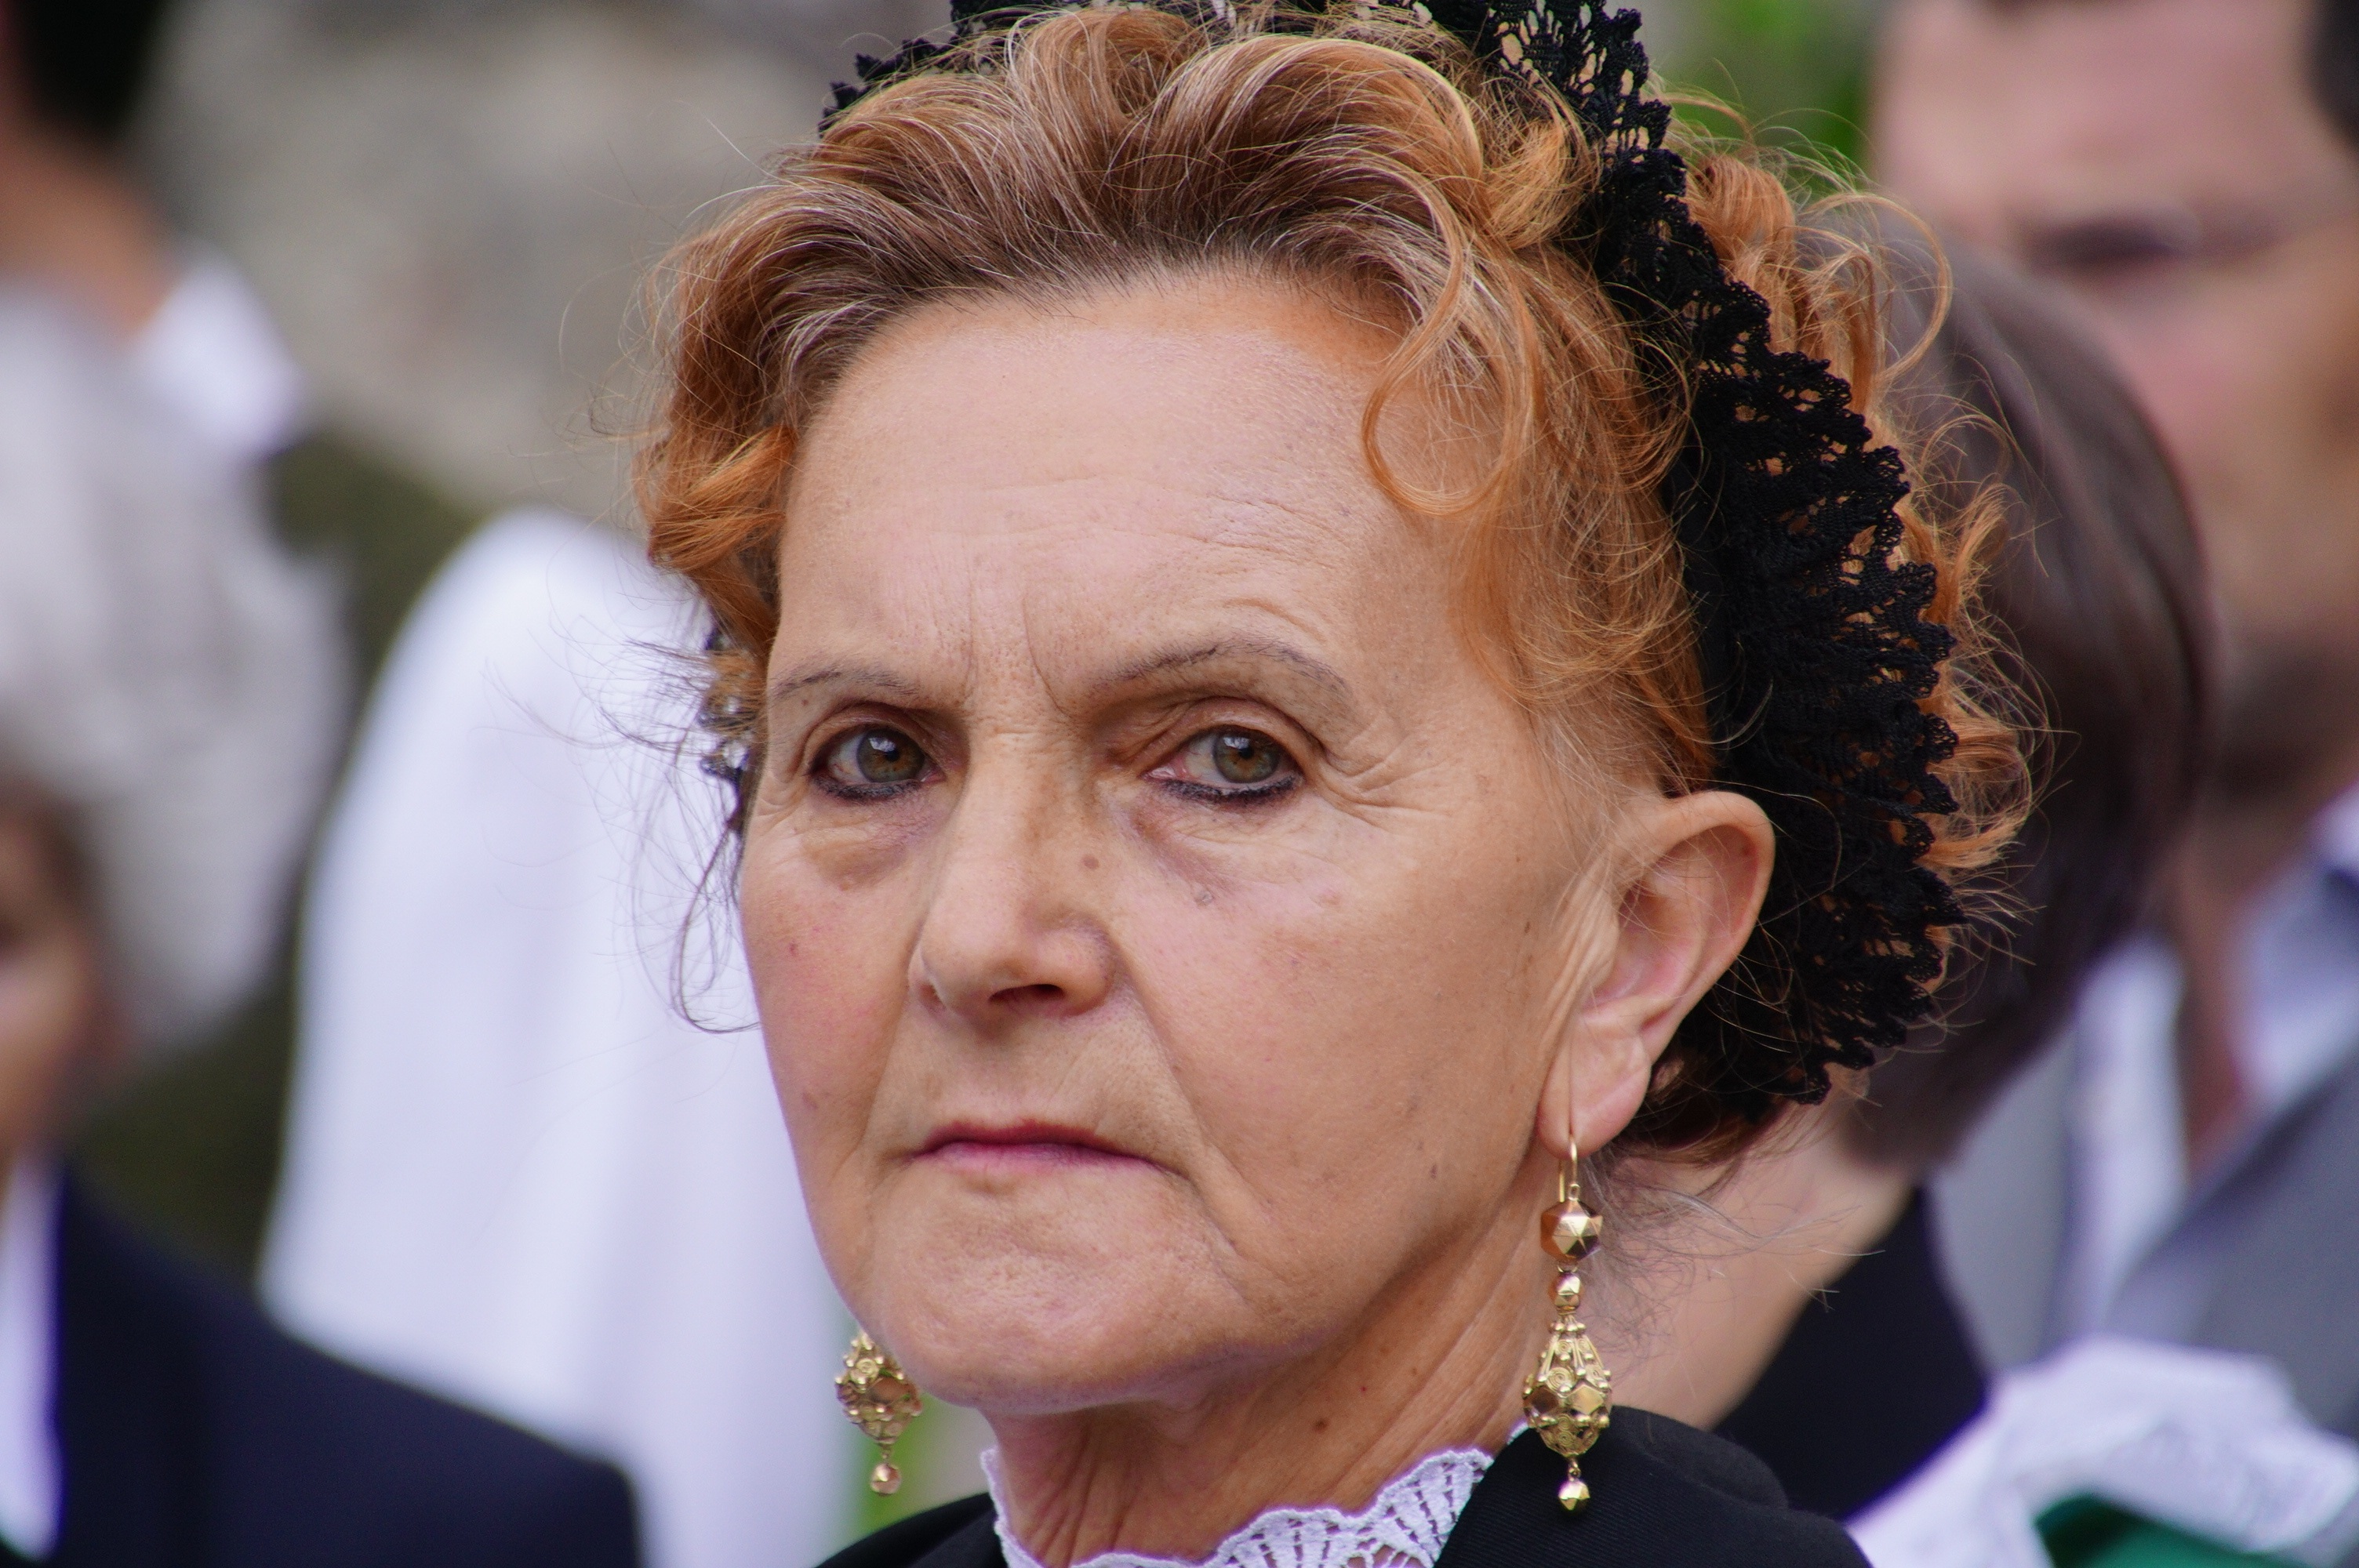without_mask: (711, 311, 1774, 1370)
